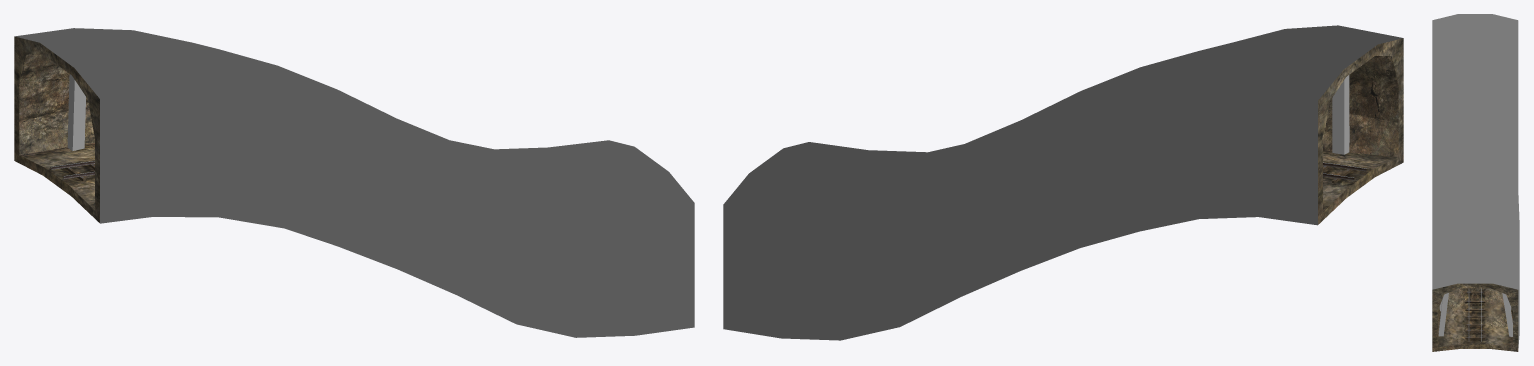
The model's file is svgoldmine05.dae.
The picture shows the model from 3 angles, left to right: view 1: azimuth 30°, elevation 25°; view 2: azimuth 150°, elevation 25°; view 3: azimuth 270°, elevation 25°; orthographic projection. The views are drawn at different scales.
Visible parts, largest first — view 1: cube2265_sep104-0, cube2265_sep95-0; view 2: cube2265_sep104-0, cube2265_sep95-0; view 3: cube2265_sep104-0, cube2265_sep95-0, cube2265_sep69-0.
Boxes of the visible parts, box(x1,y1,x2,y2) form: cube2265_sep104-0: box(14, 28, 694, 337); cube2265_sep95-0: box(67, 74, 85, 150); cube2265_sep104-0: box(723, 25, 1403, 340); cube2265_sep95-0: box(1332, 75, 1349, 154); cube2265_sep104-0: box(1432, 14, 1519, 351); cube2265_sep95-0: box(1438, 293, 1512, 336); cube2265_sep69-0: box(1465, 288, 1485, 342).
Size of the model in its own units: 6000 by 3720 by 1525.
